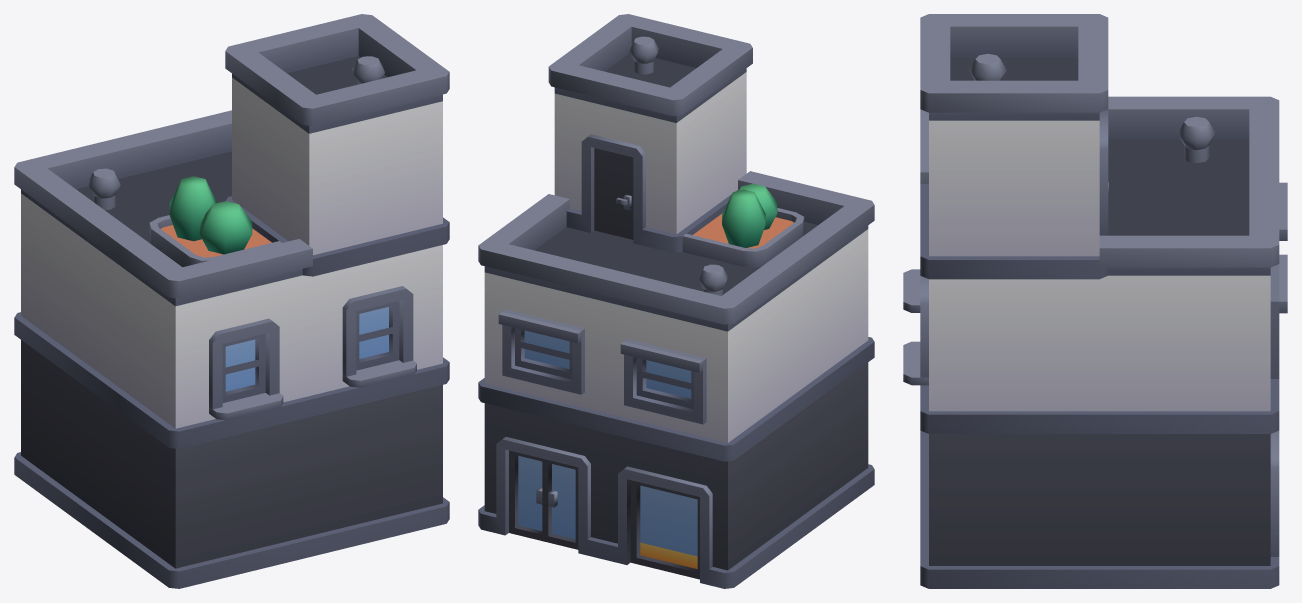
File: building-d.glb
The picture shows the model from 3 angles, left to right: view 1: azimuth 30°, elevation 25°; view 2: azimuth 150°, elevation 25°; view 3: azimuth 270°, elevation 25°; orthographic projection. The views are drawn at different scales.
Visible parts, largest first — view 1: building-d; view 2: building-d; view 3: building-d.
Boxes of the visible parts, left/top/right/bottom form: building-d: left=14, top=14, right=449, bottom=588; building-d: left=478, top=14, right=874, bottom=588; building-d: left=903, top=14, right=1287, bottom=588.
Size of the model in its own units: 0.84 by 1.29 by 0.8999.
Materials: 1 (1 with a texture image).
